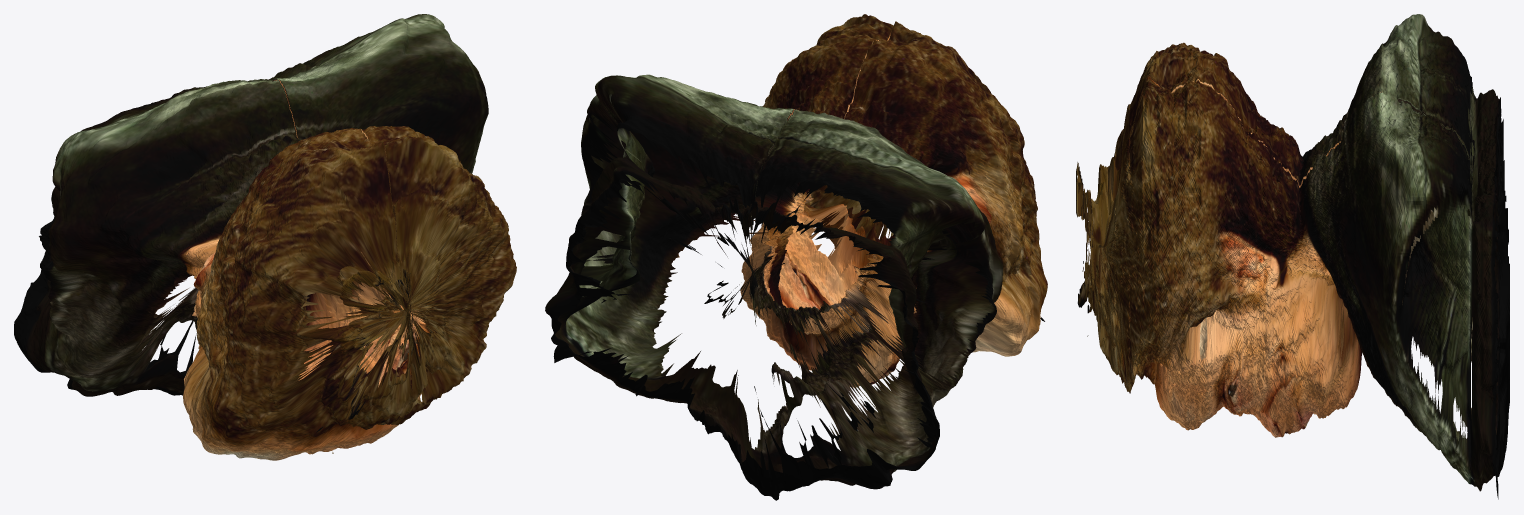
3 views of the same model, side by side, from view 1: azimuth 30°, elevation 25°; view 2: azimuth 150°, elevation 25°; view 3: azimuth 270°, elevation 25° (orthographic). The views are drawn at different scales.
Visible parts, largest first — view 1: geometry_0; view 2: geometry_0; view 3: geometry_0.
Part boxes in pixels (bbox=[...]): geometry_0: bbox=[14, 14, 516, 460]; geometry_0: bbox=[545, 14, 1047, 500]; geometry_0: bbox=[1076, 14, 1509, 499].
Size of the model in its own units: 1.87 by 1.53 by 1.44.
Materials: 1 (1 with a texture image).
